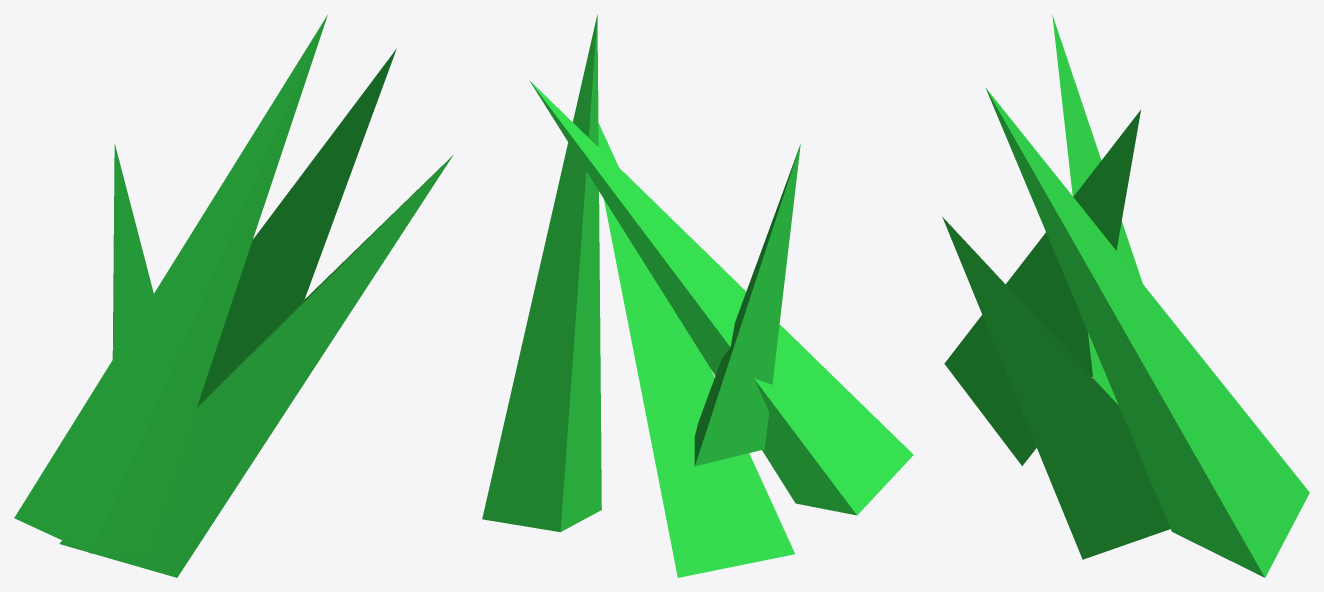
File: grass-patch-3.fbx
The picture shows the model from 3 angles, left to right: view 1: azimuth 30°, elevation 25°; view 2: azimuth 150°, elevation 25°; view 3: azimuth 270°, elevation 25°; orthographic projection. The views are drawn at different scales.
Parts seen in each view (by area): view 1: Cone.003, Cone.002, Cone, Cone.001; view 2: Cone, Cone.003, Cone.002, Cone.001; view 3: Cone, Cone.002, Cone.003, Cone.001.
Boxes of the visible parts, x1,y1,x2,y2 form: Cone.003: (14, 15, 327, 554); Cone.002: (59, 155, 453, 577); Cone: (198, 48, 396, 402); Cone.001: (112, 143, 160, 380); Cone: (482, 15, 601, 532); Cone.003: (529, 80, 913, 515); Cone.002: (598, 122, 794, 577); Cone.001: (694, 144, 800, 466); Cone: (985, 87, 1309, 577); Cone.002: (942, 216, 1170, 559); Cone.003: (944, 110, 1140, 465); Cone.001: (1052, 15, 1142, 405).
Size of the model in its own units: 74.22 by 99.86 by 58.83.
